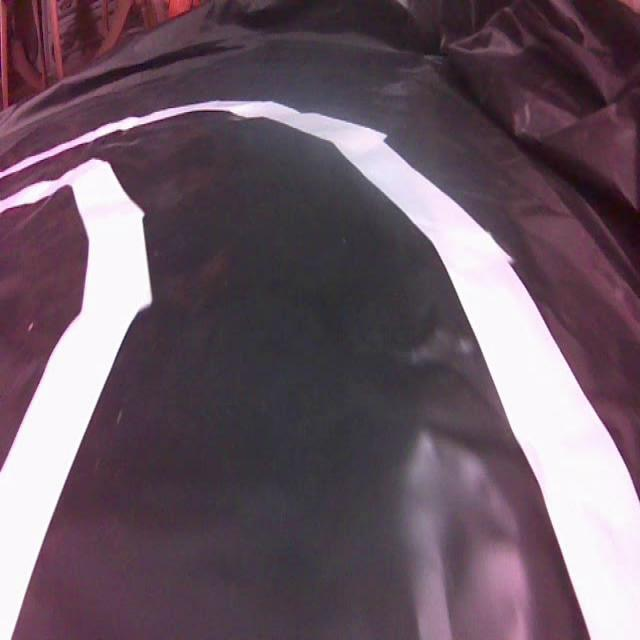LineaCarril: (0, 102, 640, 638), (0, 158, 151, 638)
